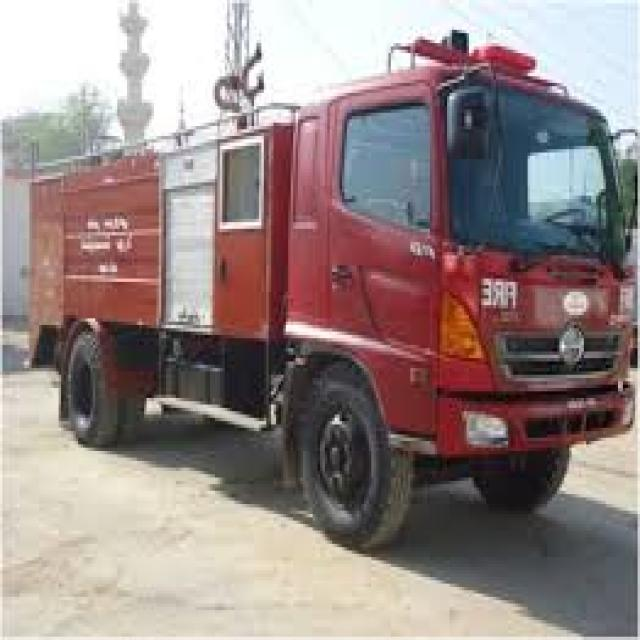Fire_brigade: (22, 33, 640, 547)
